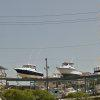Boat: (12, 59, 87, 80)
